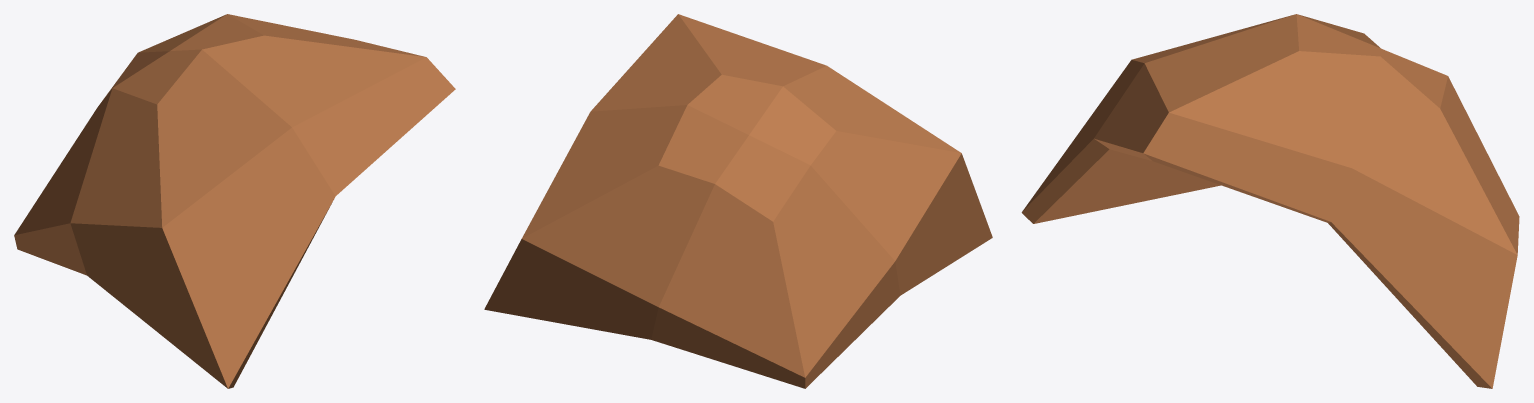
Rendered from eggShell04.fbx.
The picture shows the model from 3 angles, left to right: view 1: azimuth 30°, elevation 25°; view 2: azimuth 150°, elevation 25°; view 3: azimuth 270°, elevation 25°; orthographic projection. The views are drawn at different scales.
Parts seen in each view (by area): view 1: eggShell04; view 2: eggShell04; view 3: eggShell04.
Boxes of the visible parts, x1=… form: eggShell04: x1=14, y1=14, x2=455, y2=388; eggShell04: x1=484, y1=14, x2=992, y2=388; eggShell04: x1=1021, y1=14, x2=1519, y2=388.
Size of the model in its own units: 6.36 by 4.04 by 7.
1 material, 1 textured.
